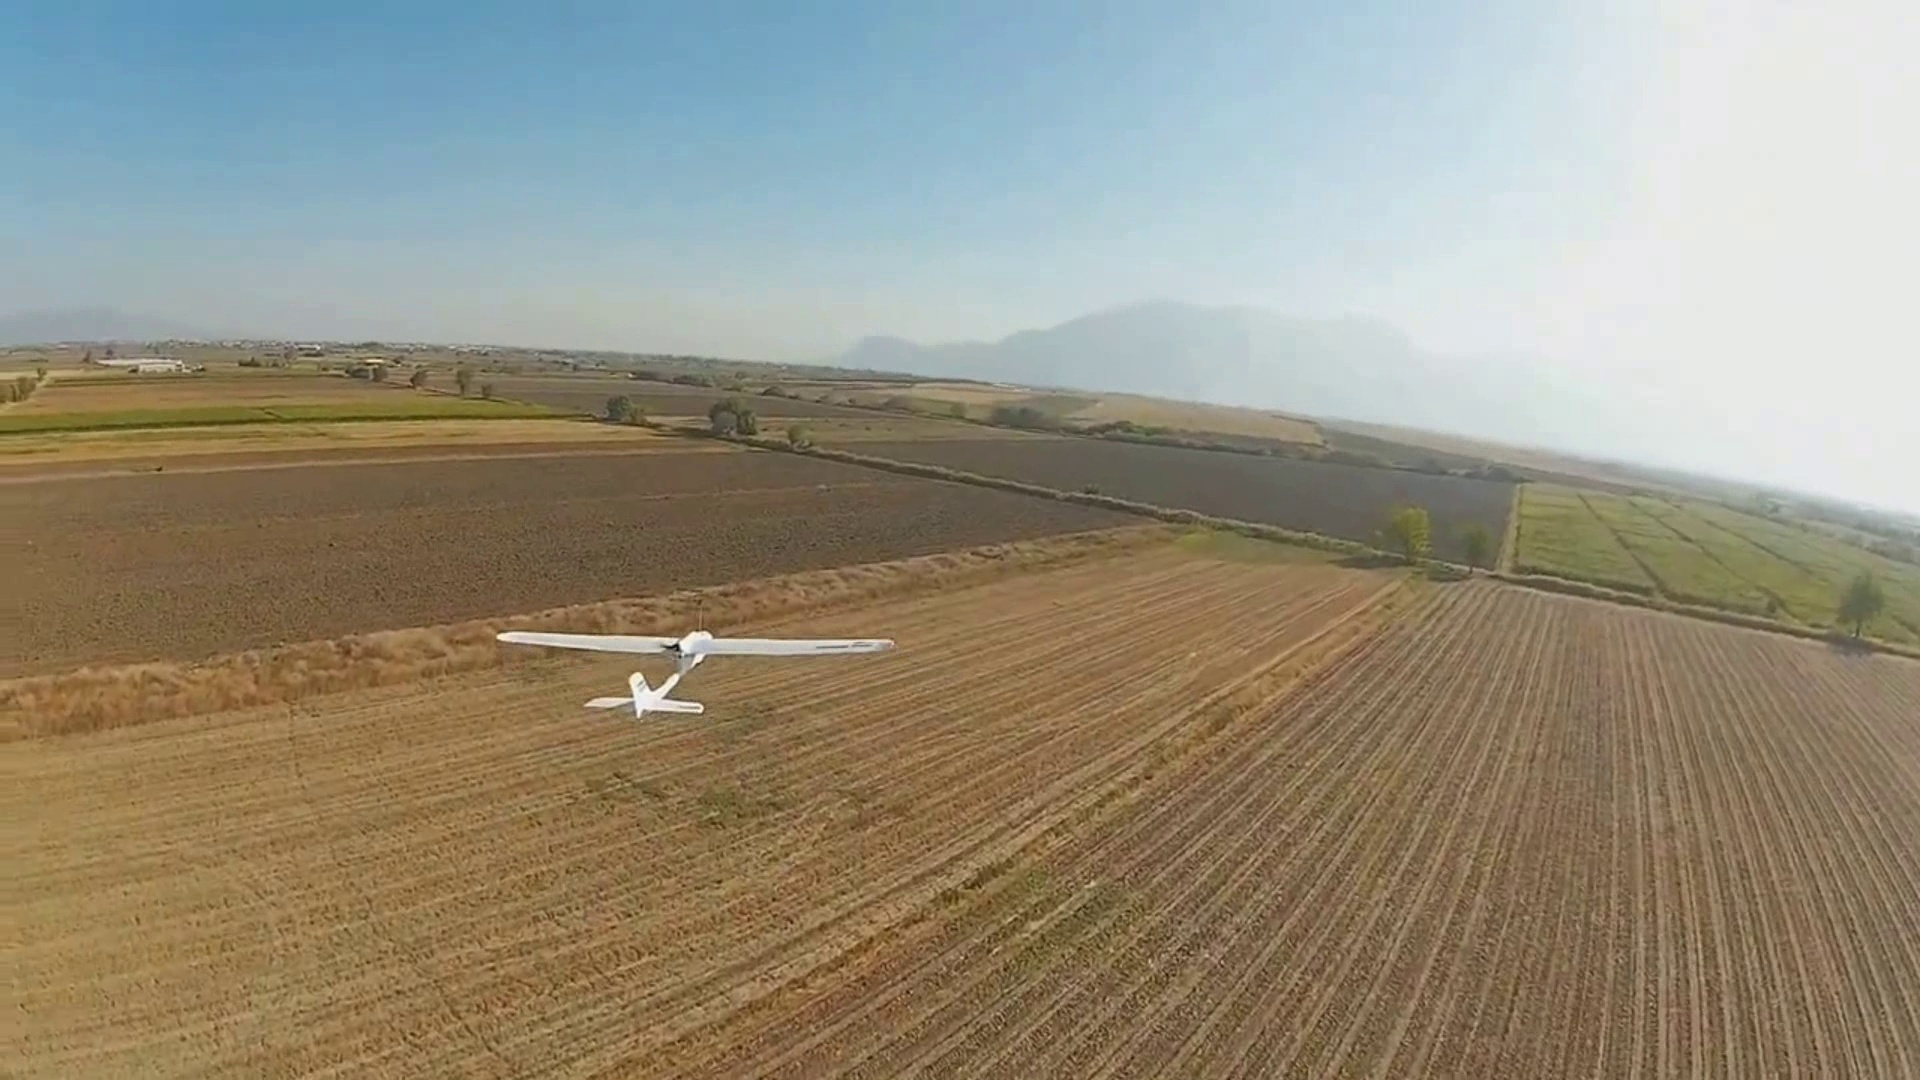airplane: (491, 618, 891, 716)
